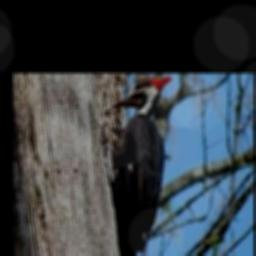Woodpecker: (108, 77, 172, 254)
